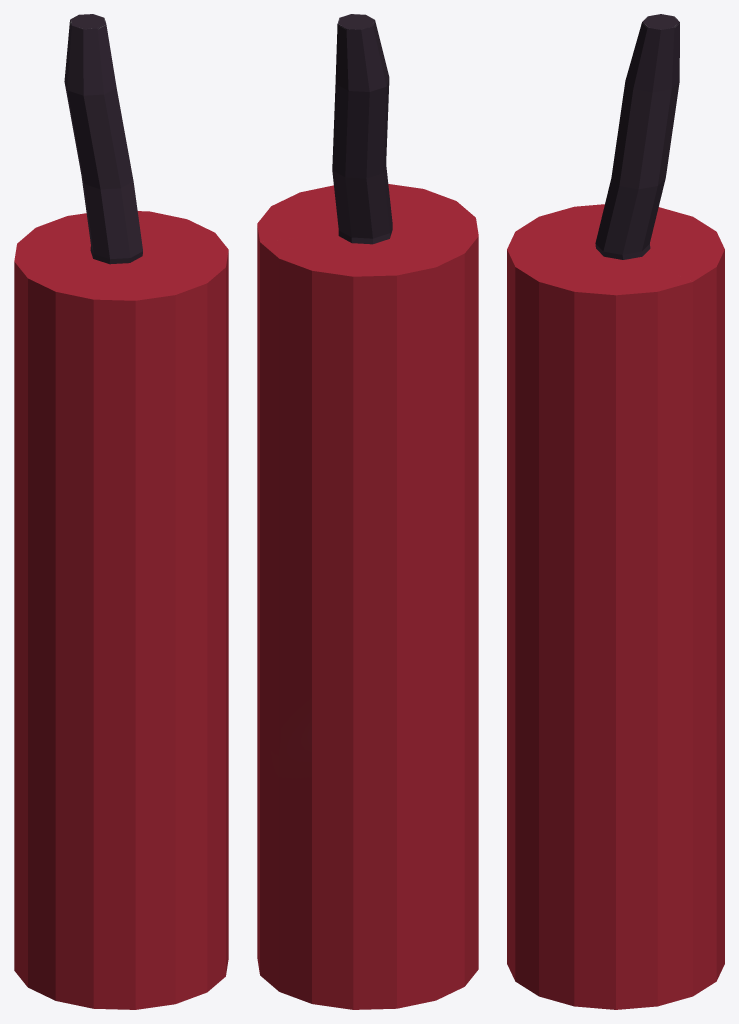
The model's file is Dinomite.glb.
The picture shows the model from 3 angles, left to right: view 1: azimuth 30°, elevation 25°; view 2: azimuth 150°, elevation 25°; view 3: azimuth 270°, elevation 25°; orthographic projection. The views are drawn at different scales.
Parts seen in each view (by area): view 1: Cylinder, Cylinder.001; view 2: Cylinder, Cylinder.001; view 3: Cylinder, Cylinder.001.
Boxes of the visible parts, box(x1,y1,x2,y2) form: Cylinder: box(14, 211, 228, 1009); Cylinder.001: box(64, 14, 142, 264); Cylinder: box(257, 184, 478, 1009); Cylinder.001: box(332, 14, 392, 244); Cylinder: box(507, 204, 724, 1009); Cylinder.001: box(595, 14, 679, 259).
Size of the model in its own units: 0.21 by 0.9959 by 0.21.
2 materials, 2 textured.
